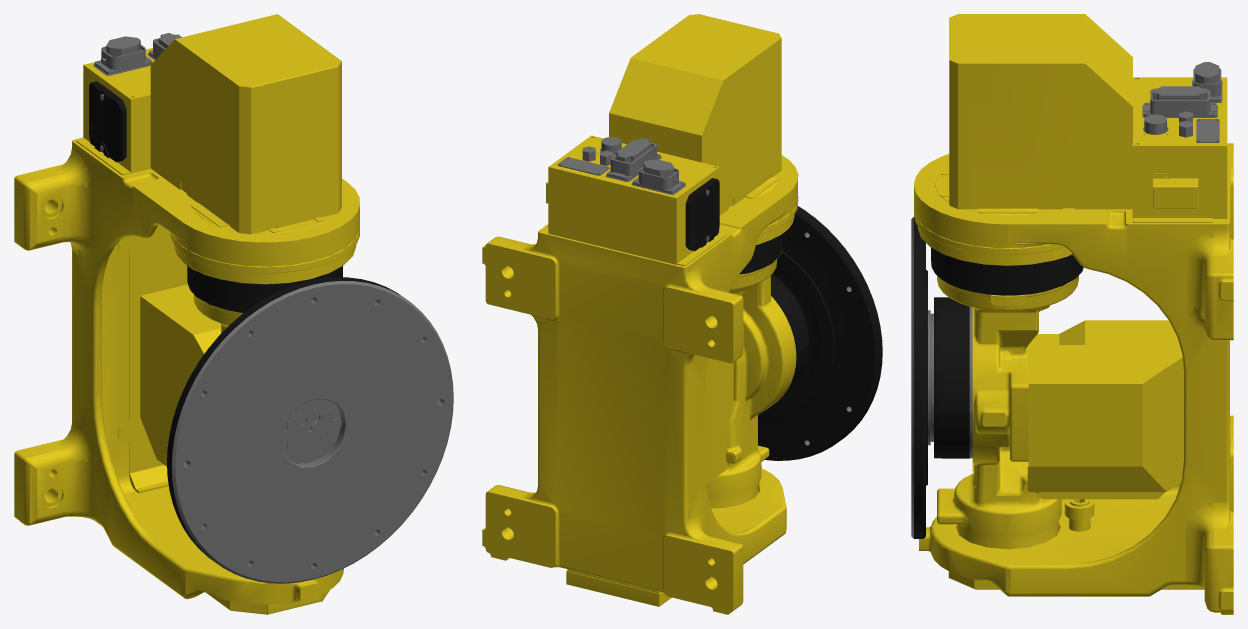
File: 2-осевой Сервопозиционер.obj
The picture shows the model from 3 angles, left to right: view 1: azimuth 30°, elevation 25°; view 2: azimuth 150°, elevation 25°; view 3: azimuth 270°, elevation 25°; orthographic projection. The views are drawn at different scales.
Visible parts, largest first — view 1: GeoContainer; view 2: GeoContainer; view 3: GeoContainer.
Part boxes in pixels (bbox=[...]): GeoContainer: bbox=[14, 14, 453, 614]; GeoContainer: bbox=[482, 14, 882, 614]; GeoContainer: bbox=[911, 14, 1233, 614].
Bounding box in the file's own units: 500 × 900 × 500.
